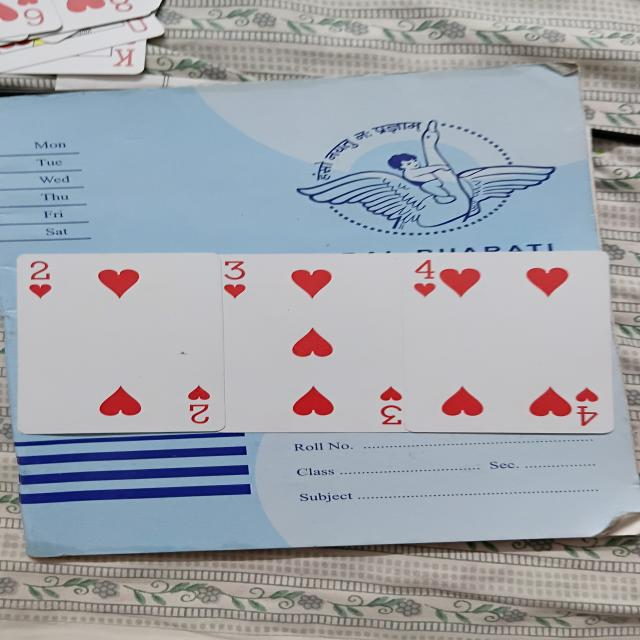2H: (18, 254, 227, 432)
4H: (398, 250, 615, 432)
